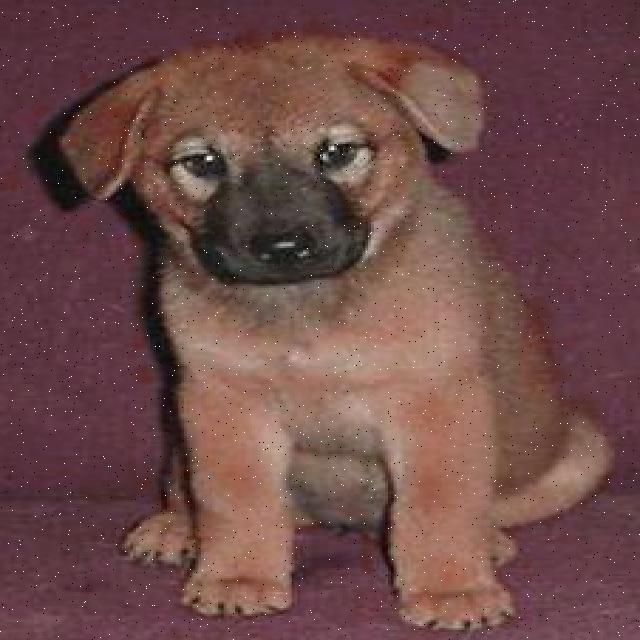Dog: (27, 8, 503, 307)
